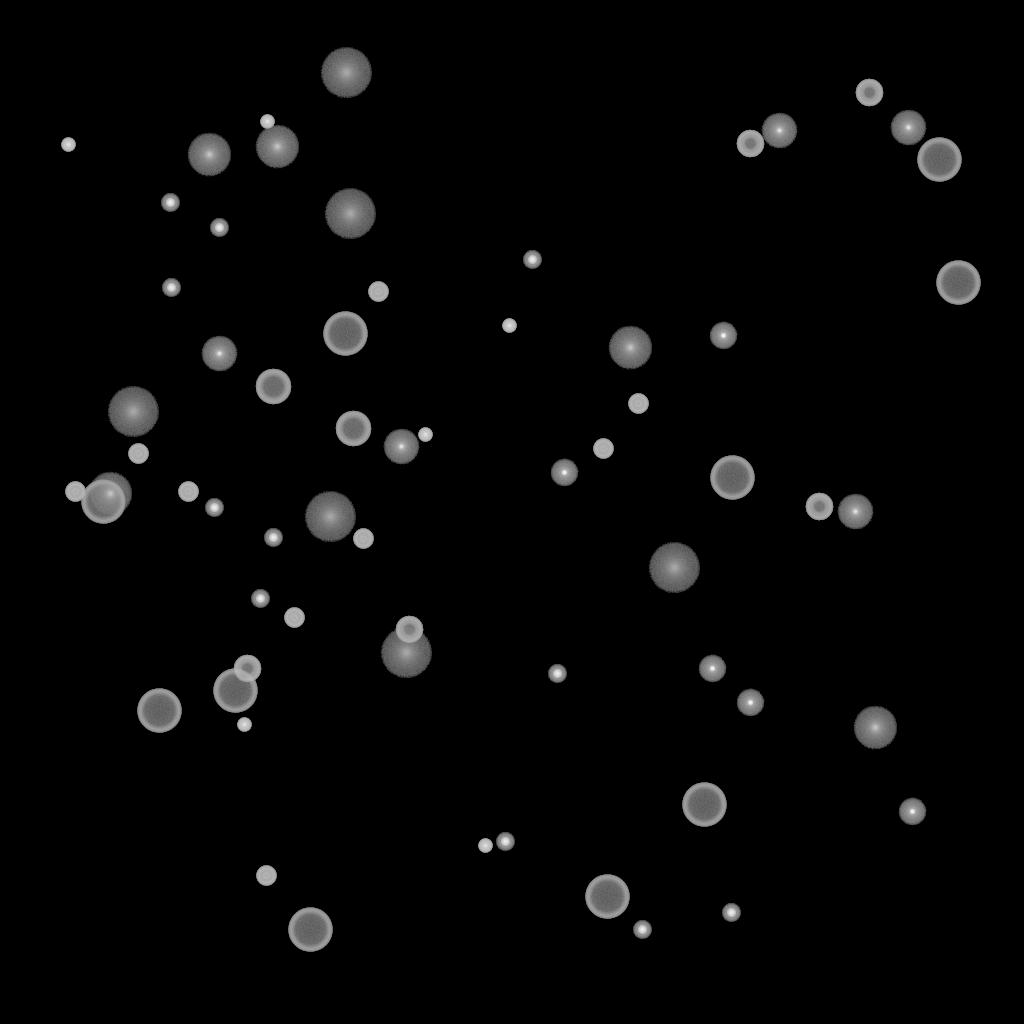depth:-10: (898, 798, 926, 826), (736, 689, 764, 717), (709, 322, 737, 350), (550, 459, 578, 487), (698, 655, 726, 683)
depth:-20: (161, 194, 179, 212), (162, 279, 180, 297), (722, 904, 740, 922), (523, 251, 541, 269), (496, 833, 514, 851), (633, 921, 651, 939), (251, 590, 269, 608), (548, 665, 566, 683), (264, 529, 282, 547), (210, 219, 228, 237), (205, 499, 223, 517)
depth:-30: (237, 718, 251, 732), (61, 138, 75, 152), (418, 428, 432, 442), (502, 319, 516, 333), (260, 115, 274, 129), (478, 839, 492, 853)
depth:-40: (628, 394, 648, 414), (593, 439, 613, 459), (353, 529, 373, 549), (368, 282, 388, 302), (284, 608, 304, 628), (178, 482, 198, 502), (256, 866, 276, 886), (65, 482, 85, 502), (128, 444, 148, 464)
depth:-50: (233, 655, 261, 683), (855, 79, 883, 107), (395, 616, 423, 644), (736, 130, 764, 158), (805, 493, 833, 521)
depth:-60: (255, 369, 291, 405), (335, 411, 371, 447)
depth:-70: (137, 689, 181, 733), (288, 908, 332, 952), (323, 312, 367, 356), (585, 875, 629, 919), (917, 138, 961, 182), (936, 261, 980, 305), (682, 783, 726, 827), (710, 456, 754, 500), (213, 669, 257, 713), (81, 480, 125, 524)
depth:0: (890, 110, 926, 146), (761, 113, 797, 149), (383, 429, 419, 465), (201, 336, 237, 372), (837, 494, 873, 530)
depth:10: (255, 125, 299, 169), (187, 133, 231, 177), (88, 472, 132, 516), (608, 326, 652, 370), (853, 706, 897, 750)
depth:20: (304, 492, 356, 542), (380, 628, 432, 678), (324, 189, 376, 239), (107, 387, 159, 437), (648, 543, 700, 593), (320, 48, 372, 98)
